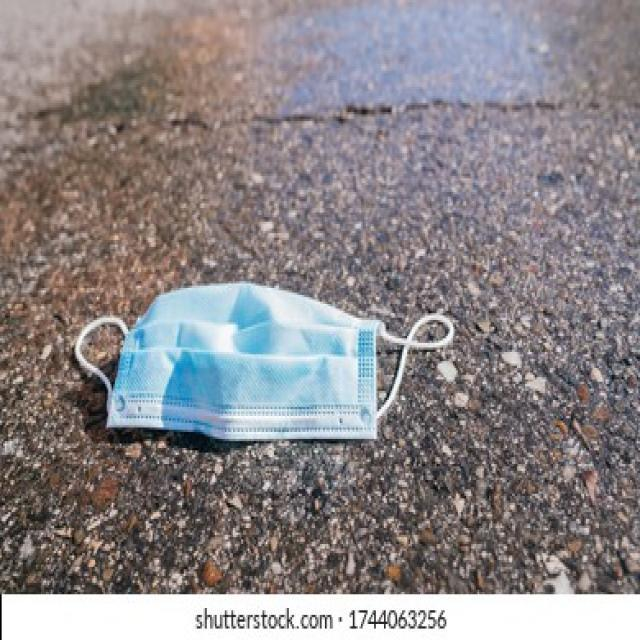face mask: (83, 284, 454, 444)
